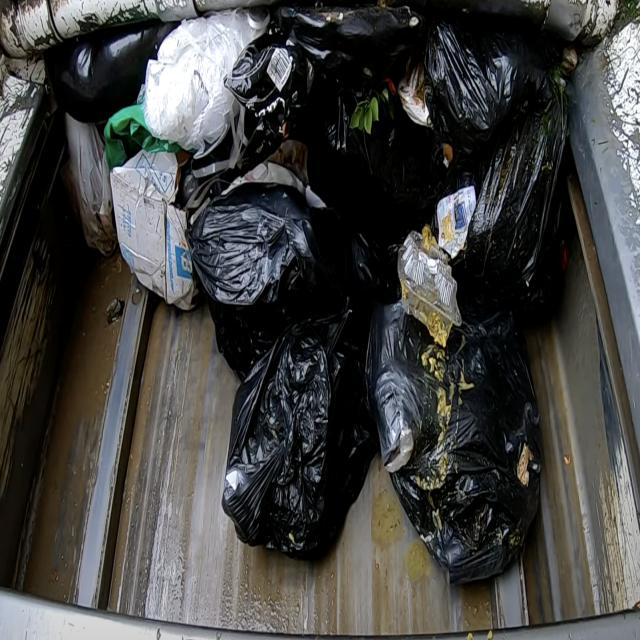bag: (204, 187, 372, 575), (371, 312, 572, 592), (227, 29, 574, 190), (64, 40, 240, 137)
cardboard: (102, 144, 195, 313)
plastic: (389, 187, 480, 350)
